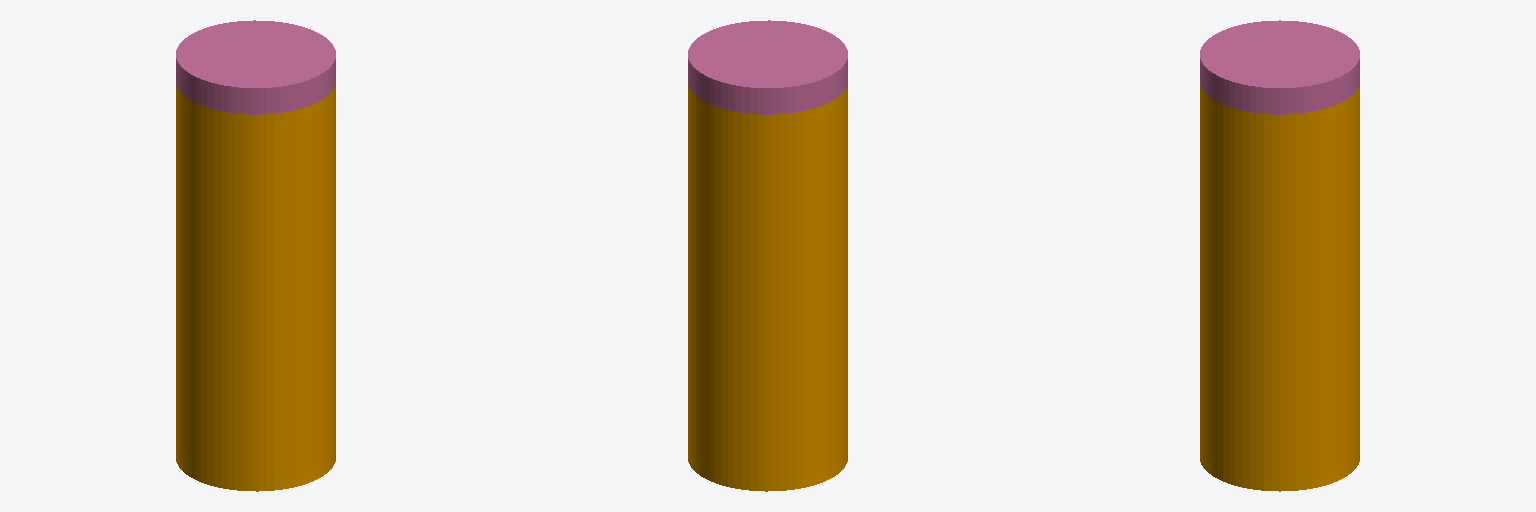
URDF robot description (tumbler):
<?xml version="1.0"?>
<!-- tumbler.urdf 의 6자유도 판.
     캡을 body 에 cap_spin(z회전) + cap_lift(z이동) + 여분 4개(cap_tx/ty 수평,
     cap_rx/ry 기울임) 사슬로 연결한다. 잠긴 동안 여분 4개는 screw_coupling 이
     강성 위치 드라이브로 0 에 고정하므로 기존 2자유도 판과 같은 거동이고,
     해제(180도) 순간 드라이브를 꺼서 캡이 완전 자유 강체처럼 움직인다
     (기울고, 미끄러지고, 계속 돈다). 2자유도 판은 해제 후에도 z 회전+상승만
     가능해서 손이 캡을 기울이거나 옆으로 빼낼 수 없었다.
     cap_spin 상한은 나사끝(180도)+2도 여유 (tumbler.urdf 의 주석 참조).
     해제 시 spin 한계 확장은 screw_coupling.release_bound() 가 담당한다. -->
<!-- make_cyl_tumbler.py 생성: cap r=44.0/h=16.0mm, body R=44.0/H=228.0mm, 64각 -->
<!-- spin friction 0.200 Nm -->
<robot name="tumbler">
  <link name="body">
    <visual>
      <geometry><mesh filename="meshes/tumbler_cyl_r44_fric02_H228_body.obj"/></geometry>
    </visual>
    <collision>
      <geometry><mesh filename="meshes/tumbler_cyl_r44_fric02_H228_body.obj"/></geometry>
    </collision>
    <inertial>
      <mass value="0.3"/>
      <origin xyz="0.020946 0.000643 0.134835"/>
      <inertia ixx="0.00167630" iyy="0.00206606" izz="0.00082941" ixy="0" ixz="0" iyz="0"/>
    </inertial>
  </link>

  <link name="cap_spinner">
    <inertial>
      <mass value="1e-4"/>
      <inertia ixx="1e-8" iyy="1e-8" izz="1e-8" ixy="0" ixz="0" iyz="0"/>
    </inertial>
  </link>
  <joint name="cap_spin" type="revolute">
    <parent link="body"/>
    <child link="cap_spinner"/>
    <origin xyz="0 0 0.228000"/>
    <axis xyz="0 0 1"/>
    <limit lower="-0.020000" upper="3.176499" effort="50.0" velocity="20.0"/>
    <dynamics damping="0.001" friction="0.200"/>
  </joint>

  <link name="cap_lifter">
    <inertial>
      <mass value="1e-4"/>
      <inertia ixx="1e-8" iyy="1e-8" izz="1e-8" ixy="0" ixz="0" iyz="0"/>
    </inertial>
  </link>
  <joint name="cap_lift" type="prismatic">
    <parent link="cap_spinner"/>
    <child link="cap_lifter"/>
    <origin xyz="0 0 0"/>
    <axis xyz="0 0 1"/>
    <limit lower="0.0" upper="0.13" effort="100.0" velocity="5.0"/>
    <mimic joint="cap_spin" multiplier="3.18309886e-03" offset="0.0"/>
  </joint>

  <!-- 여분 4자유도. 잠긴 동안 screw_coupling 이 강성 드라이브로 0 고정. -->
  <link name="cap_fx">
    <inertial>
      <mass value="1e-4"/>
      <inertia ixx="1e-8" iyy="1e-8" izz="1e-8" ixy="0" ixz="0" iyz="0"/>
    </inertial>
  </link>
  <joint name="cap_tx" type="prismatic">
    <parent link="cap_lifter"/>
    <child link="cap_fx"/>
    <origin xyz="0 0 0"/>
    <axis xyz="1 0 0"/>
    <limit lower="-0.5" upper="0.5" effort="100.0" velocity="5.0"/>
  </joint>

  <link name="cap_fy">
    <inertial>
      <mass value="1e-4"/>
      <inertia ixx="1e-8" iyy="1e-8" izz="1e-8" ixy="0" ixz="0" iyz="0"/>
    </inertial>
  </link>
  <joint name="cap_ty" type="prismatic">
    <parent link="cap_fx"/>
    <child link="cap_fy"/>
    <origin xyz="0 0 0"/>
    <axis xyz="0 1 0"/>
    <limit lower="-0.5" upper="0.5" effort="100.0" velocity="5.0"/>
  </joint>

  <link name="cap_frx">
    <inertial>
      <mass value="1e-4"/>
      <inertia ixx="1e-8" iyy="1e-8" izz="1e-8" ixy="0" ixz="0" iyz="0"/>
    </inertial>
  </link>
  <joint name="cap_rx" type="revolute">
    <parent link="cap_fy"/>
    <child link="cap_frx"/>
    <origin xyz="0 0 0"/>
    <axis xyz="1 0 0"/>
    <limit lower="-3.1416" upper="3.1416" effort="50.0" velocity="20.0"/>
  </joint>

  <joint name="cap_ry" type="revolute">
    <parent link="cap_frx"/>
    <child link="cap"/>
    <origin xyz="0 0 0"/>
    <axis xyz="0 1 0"/>
    <limit lower="-3.1416" upper="3.1416" effort="50.0" velocity="20.0"/>
  </joint>

  <link name="cap">
    <visual>
      <geometry><mesh filename="meshes/tumbler_cyl_r44_fric02_H228_cap.obj"/></geometry>
    </visual>
    <collision>
      <geometry><mesh filename="meshes/tumbler_cyl_r44_fric02_H228_cap.obj"/></geometry>
    </collision>
    <inertial>
      <mass value="0.050"/>
      <origin xyz="0 0 0.008000"/>
      <inertia ixx="0.00002527" iyy="0.00002527" izz="0.00004840" ixy="0" ixz="0" iyz="0"/>
    </inertial>
  </link>

  <!-- 매끈한 원통이라 그대로는 미끄럽다. 나사산 대신 마찰로 그립을 만든다. -->
  <gazebo reference="cap"><mu1>2.0</mu1><mu2>2.0</mu2></gazebo>
  <gazebo reference="body"><mu1>2.0</mu1><mu2>2.0</mu2></gazebo>
</robot>

--- Render facts (derived) ---
3 views of the same robot in one strip: view 1: azimuth 30°, elevation 25°; view 2: azimuth 150°, elevation 25°; view 3: azimuth 270°, elevation 25° (orthographic).
Model tumbler with 7 links and 6 joints (3 revolute, 3 prismatic), rooted at body, posed every joint at zero.
Links seen in each view (by area): view 1: body, cap; view 2: body, cap; view 3: body, cap.
Link boxes in pixels (x1=…): body: x1=176, y1=85, x2=335, y2=491; cap: x1=176, y1=20, x2=335, y2=114; body: x1=688, y1=85, x2=847, y2=491; cap: x1=688, y1=20, x2=847, y2=114; body: x1=1200, y1=85, x2=1359, y2=491; cap: x1=1200, y1=20, x2=1359, y2=114.
Bounding box of the posed robot: 0.088 × 0.088 × 0.244 m (x, y, z).
Meshes: 2 distinct files referenced, 2 mesh visuals loaded (2 OBJ).
